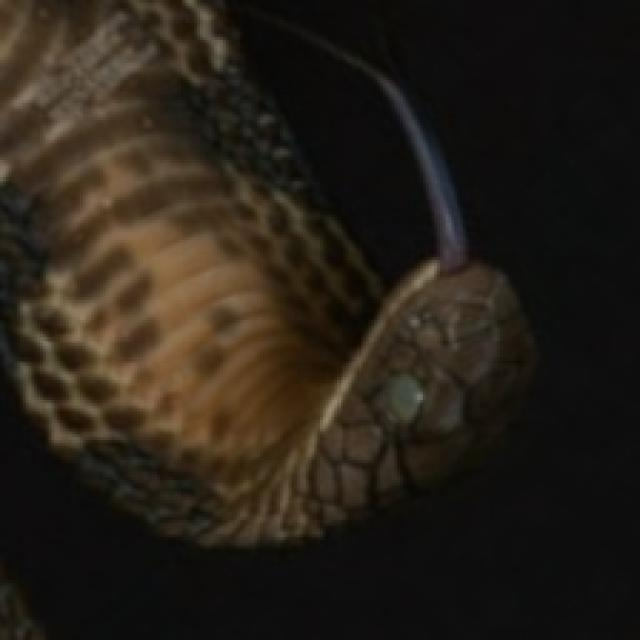king cobra: (0, 0, 531, 543)
